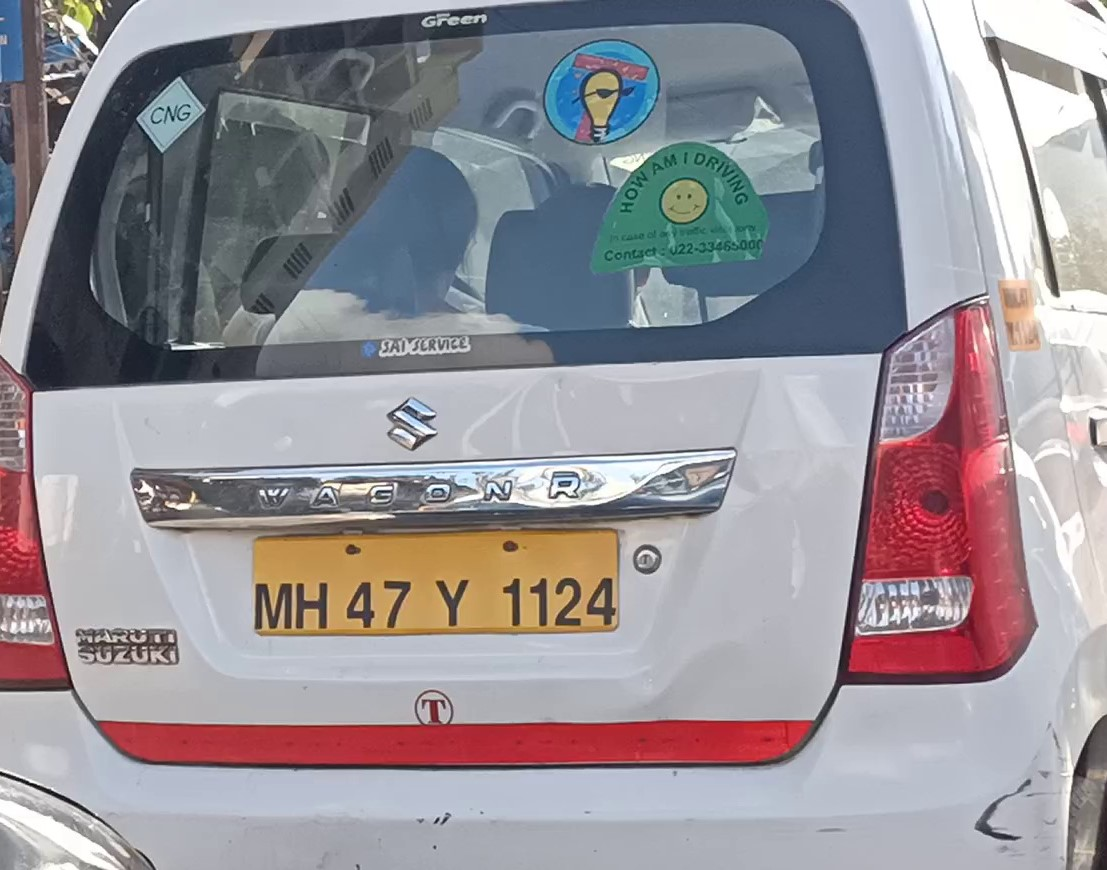MH47Y1124: (248, 530, 622, 635)
